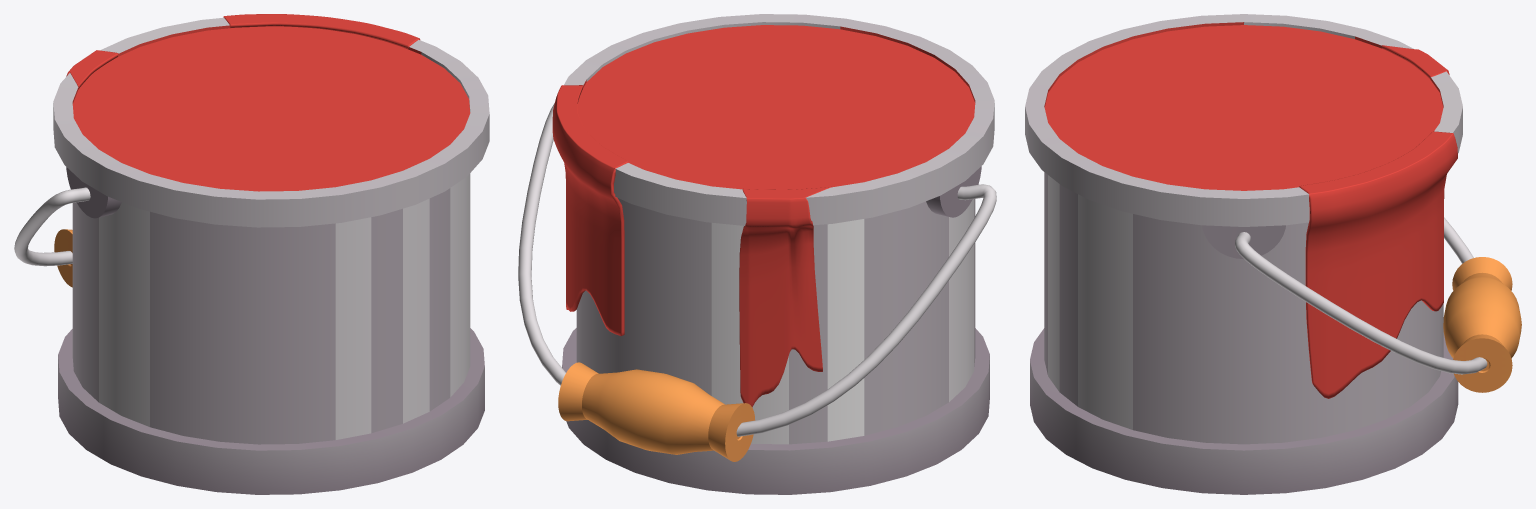
File: paintcan.glb
The picture shows the model from 3 angles, left to right: view 1: azimuth 30°, elevation 25°; view 2: azimuth 150°, elevation 25°; view 3: azimuth 270°, elevation 25°; orthographic projection.
Parts seen in each view (by area): view 1: can, paint, Plane, BézierCurve, holes, Plane.001, handle; view 2: can, paint, Plane.001, handle, Plane, BézierCurve, holes; view 3: can, paint, Plane, handle, BézierCurve, holes, Plane.001.
Boxes of the visible parts, left/top/right/bottom form: can: left=53, top=17, right=489, bottom=494; paint: left=72, top=26, right=470, bottom=191; Plane: left=223, top=14, right=420, bottom=49; BézierCurve: left=14, top=187, right=90, bottom=266; holes: left=66, top=167, right=121, bottom=218; Plane.001: left=66, top=50, right=118, bottom=89; handle: left=54, top=229, right=72, bottom=287; can: left=562, top=14, right=994, bottom=494; paint: left=577, top=25, right=975, bottom=189; Plane.001: left=739, top=186, right=831, bottom=407; handle: left=558, top=362, right=755, bottom=461; Plane: left=552, top=85, right=628, bottom=335; BézierCurve: left=518, top=103, right=996, bottom=436; holes: left=926, top=166, right=981, bottom=217; can: left=1025, top=14, right=1462, bottom=494; paint: left=1044, top=25, right=1443, bottom=190; Plane: left=1299, top=131, right=1457, bottom=398; handle: left=1443, top=257, right=1521, bottom=392; BézierCurve: left=1235, top=217, right=1487, bottom=374; holes: left=1202, top=225, right=1285, bottom=259; Plane.001: left=1382, top=45, right=1449, bottom=79.
Size of the model in its own units: 3.73 by 2.43 by 3.66.
1 material, 1 textured.
